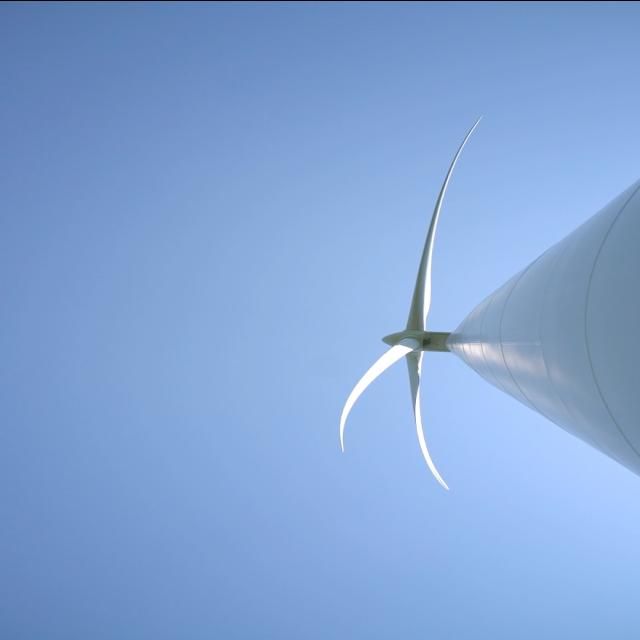blade 1: (402, 188, 456, 300)
blade 2: (402, 350, 452, 514)
blade 3: (334, 356, 384, 446)
